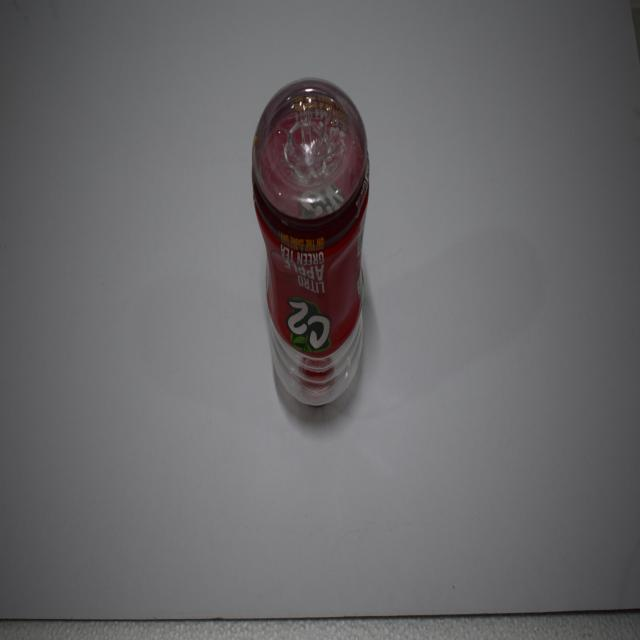bottle: (236, 60, 395, 443)
